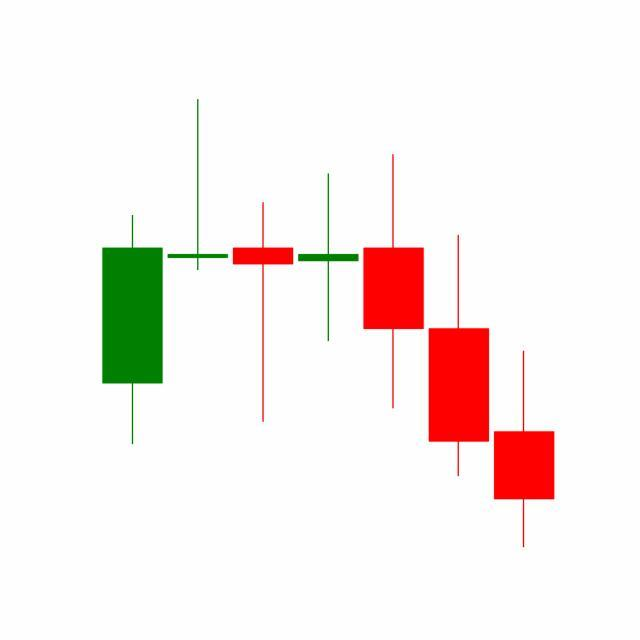Three Outside Up-Down: (295, 151, 492, 480)
